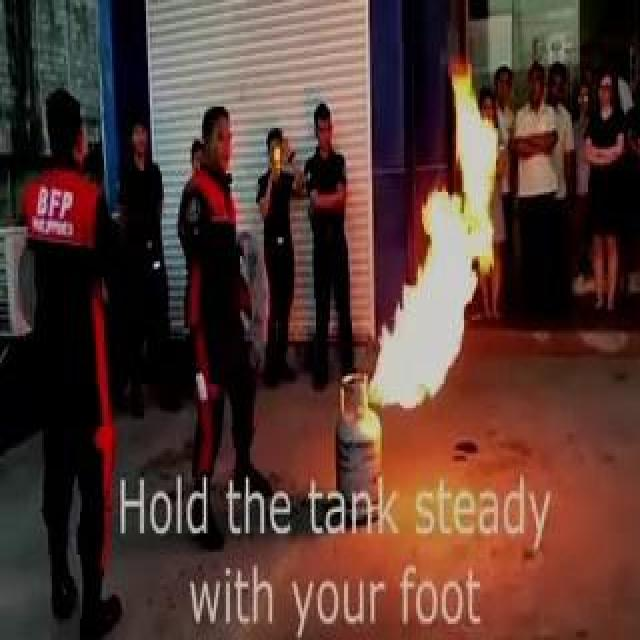Fire: (355, 141, 477, 416)
